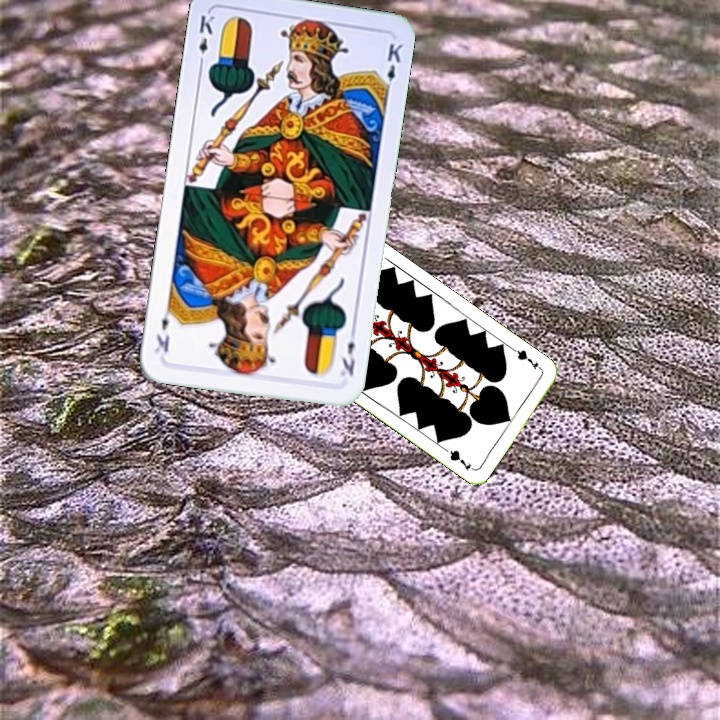EK: (194, 11, 217, 70), (336, 324, 358, 379)
G7: (509, 345, 545, 373)
